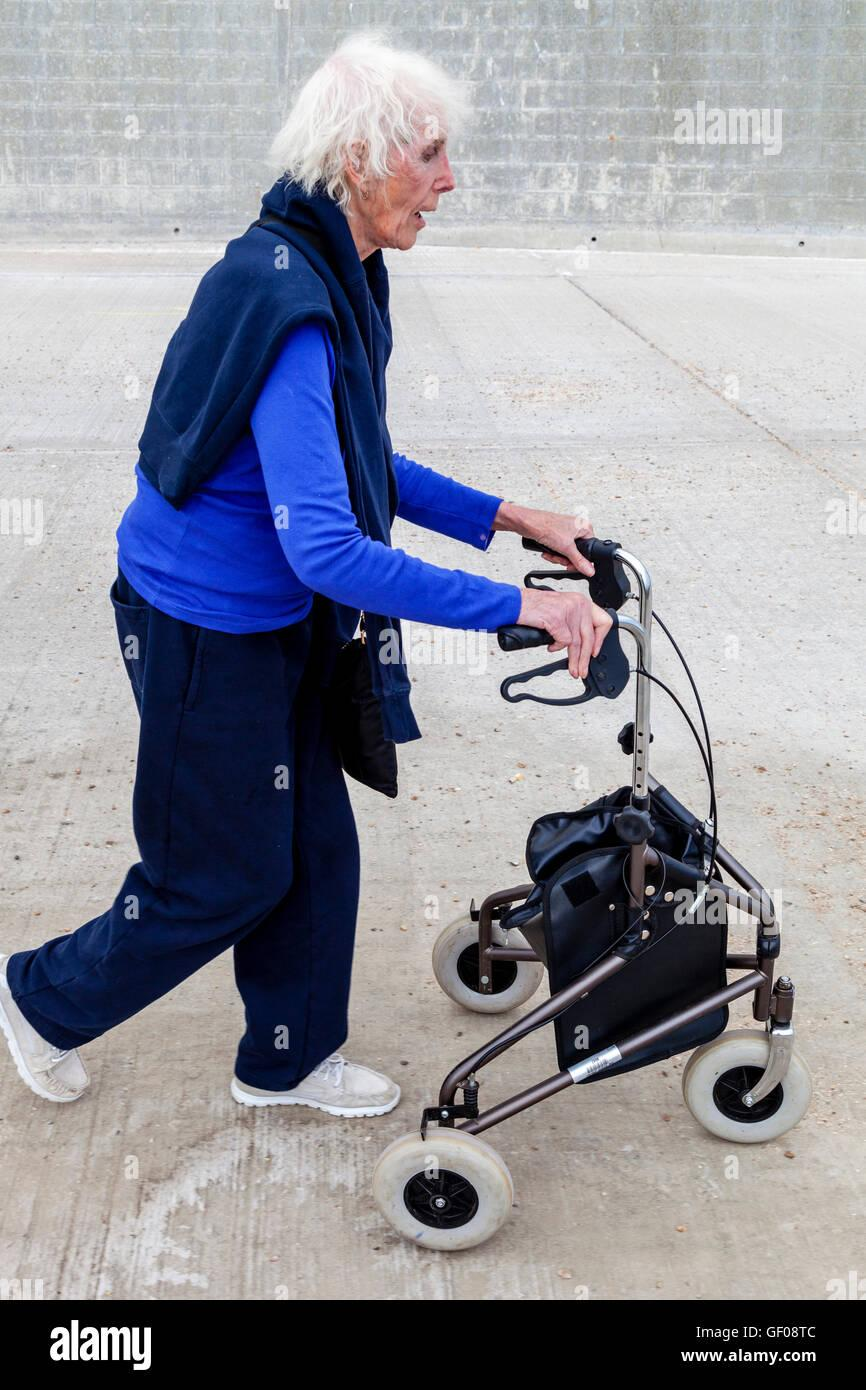walking_frame: (1, 46, 812, 1252)
